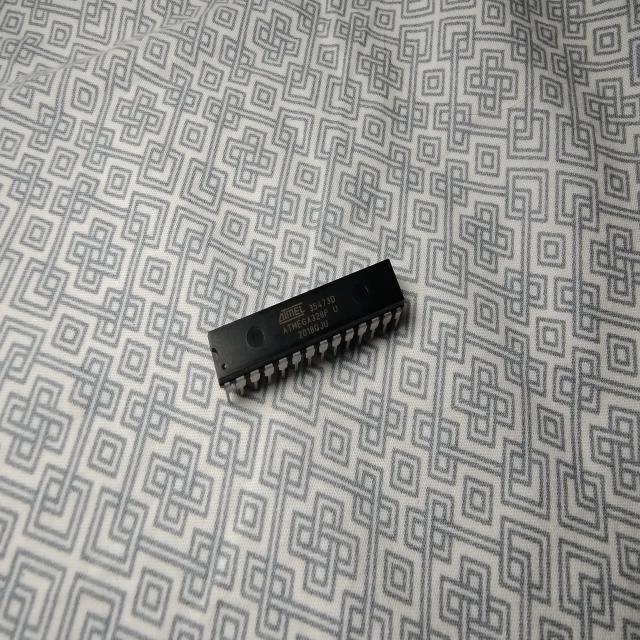atmega: (206, 256, 407, 404)
